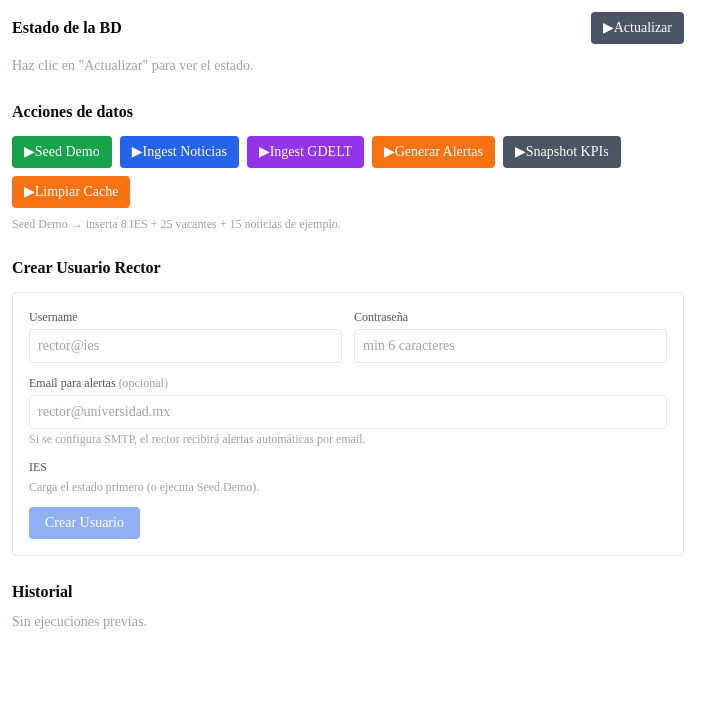
Test: muestra error cuando API falla
This screenshot has width=701, height=716.
Click the button "▶Ingest GDELT": (305, 152) top-left (247, 136), bottom-right (364, 168)
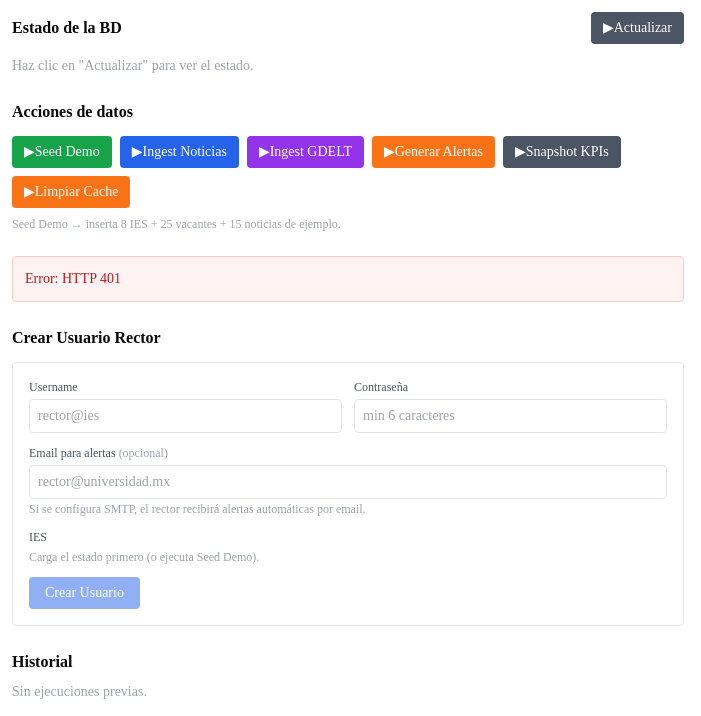
Expected: the text "Error: HTTP 401" is shown, top-left (12, 256), bottom-right (684, 302)
